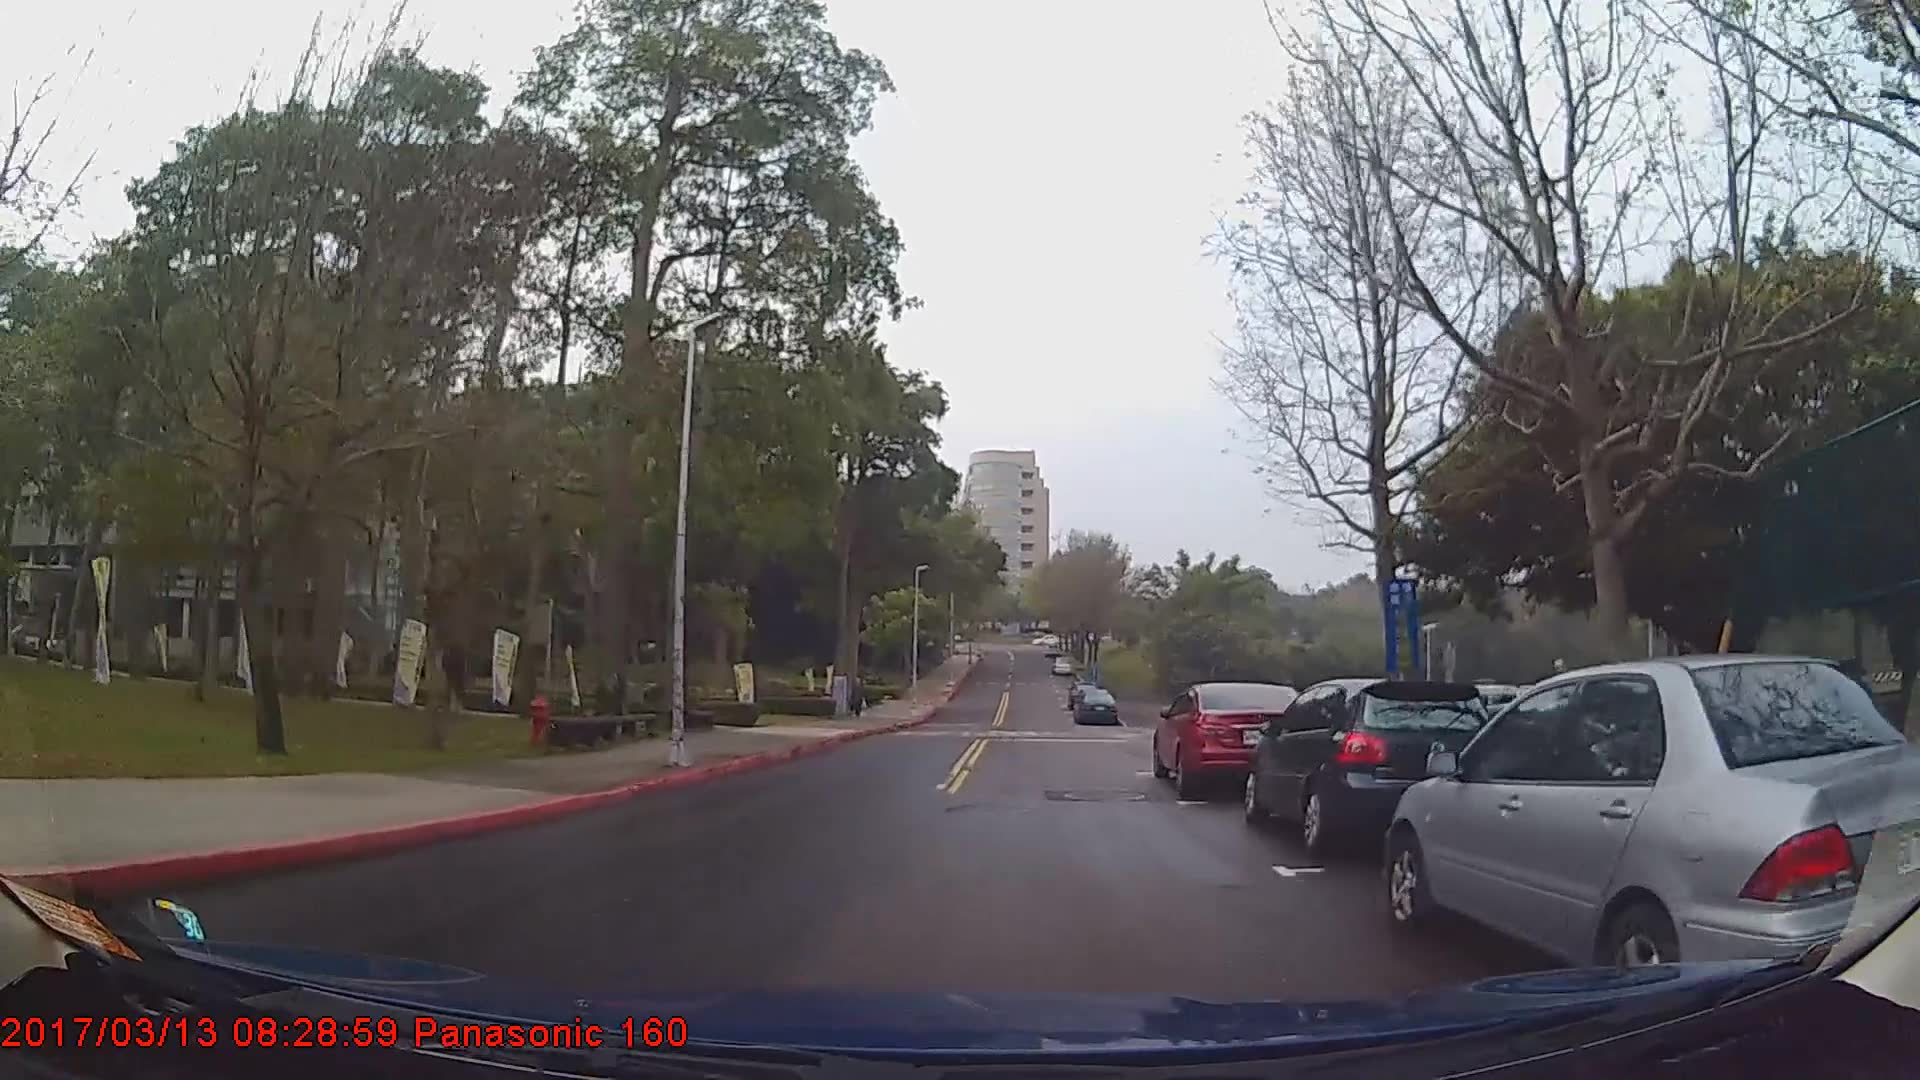vehicle: (1386, 651, 1920, 1021), (1244, 676, 1503, 847), (1151, 680, 1309, 799), (1073, 687, 1122, 724)
